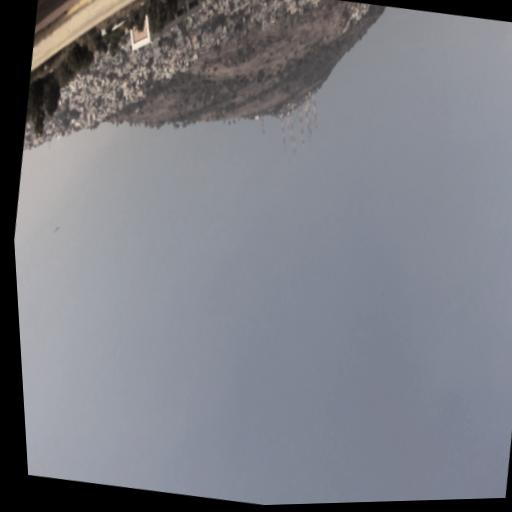drones: (53, 224, 61, 233)
